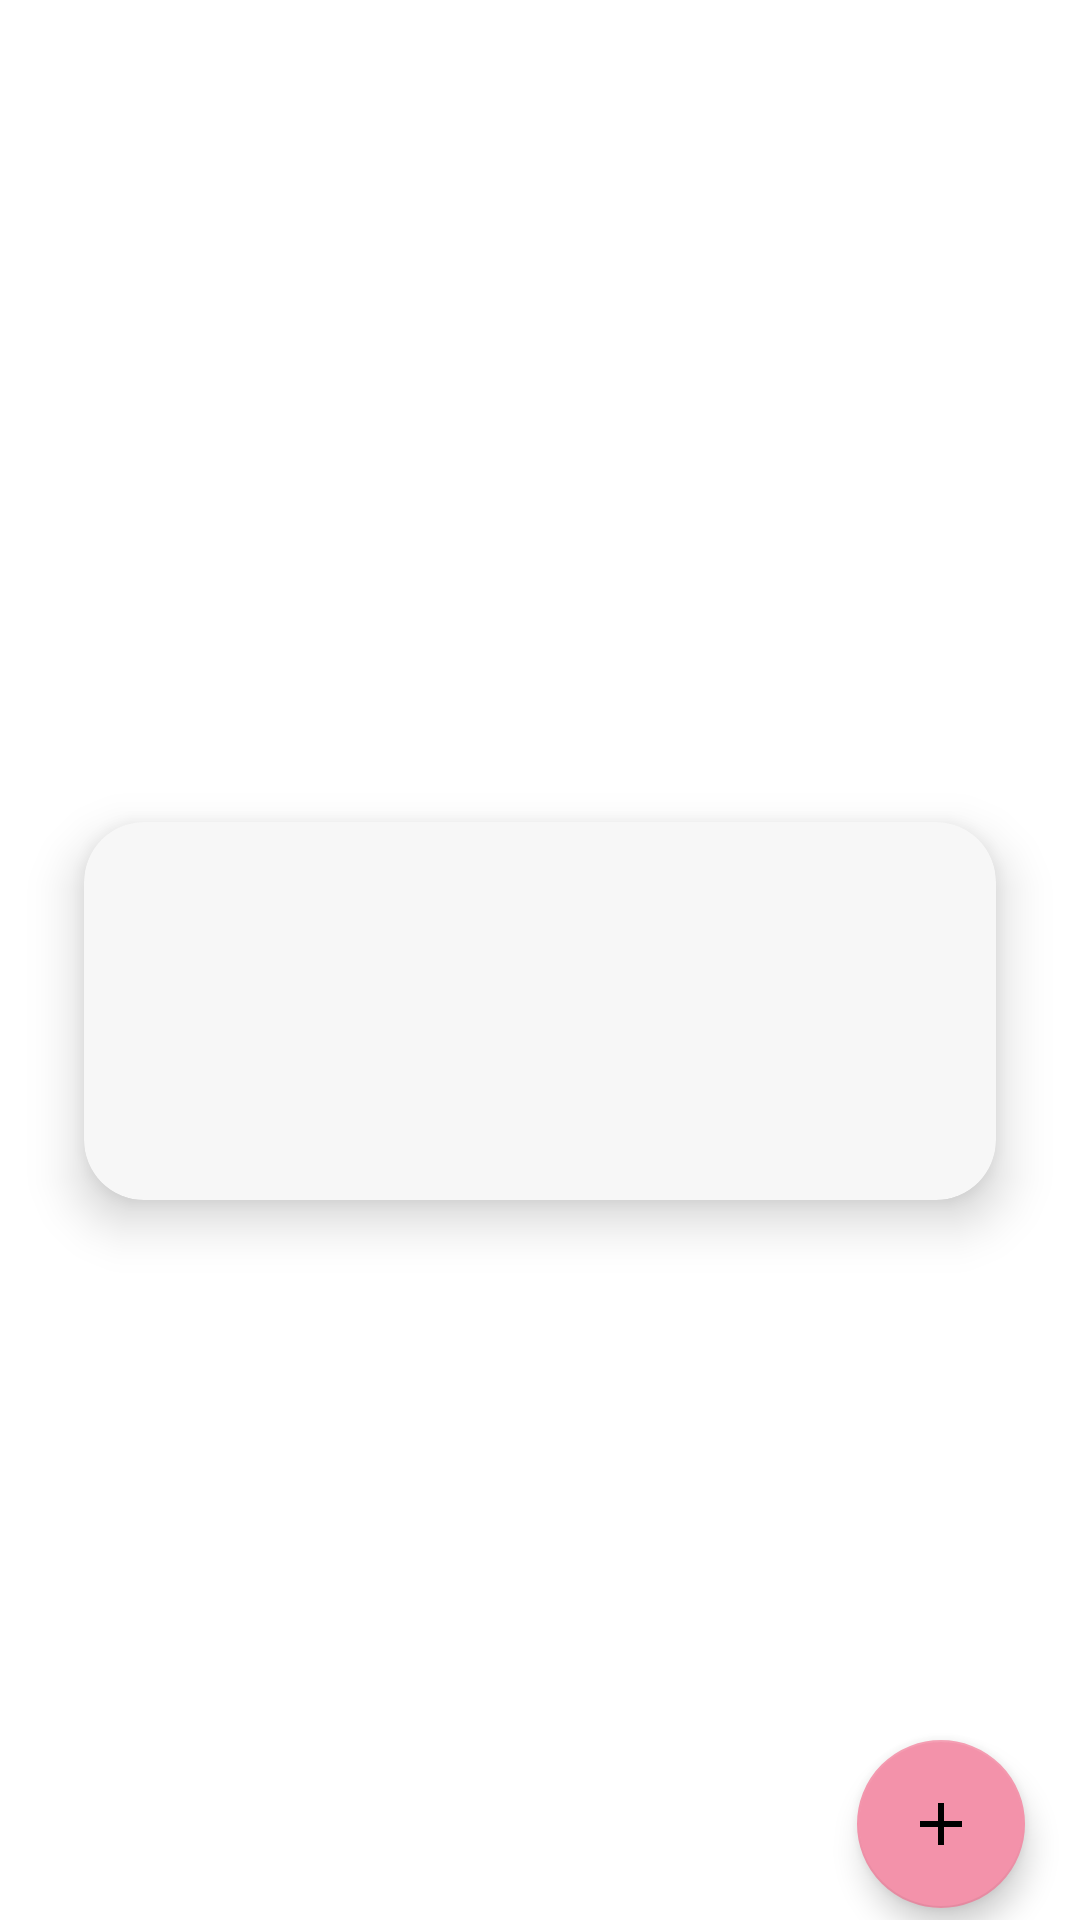

Named icons in this screenshot (1080*1920) and their centers, (x,y):
add: (941,1824)
